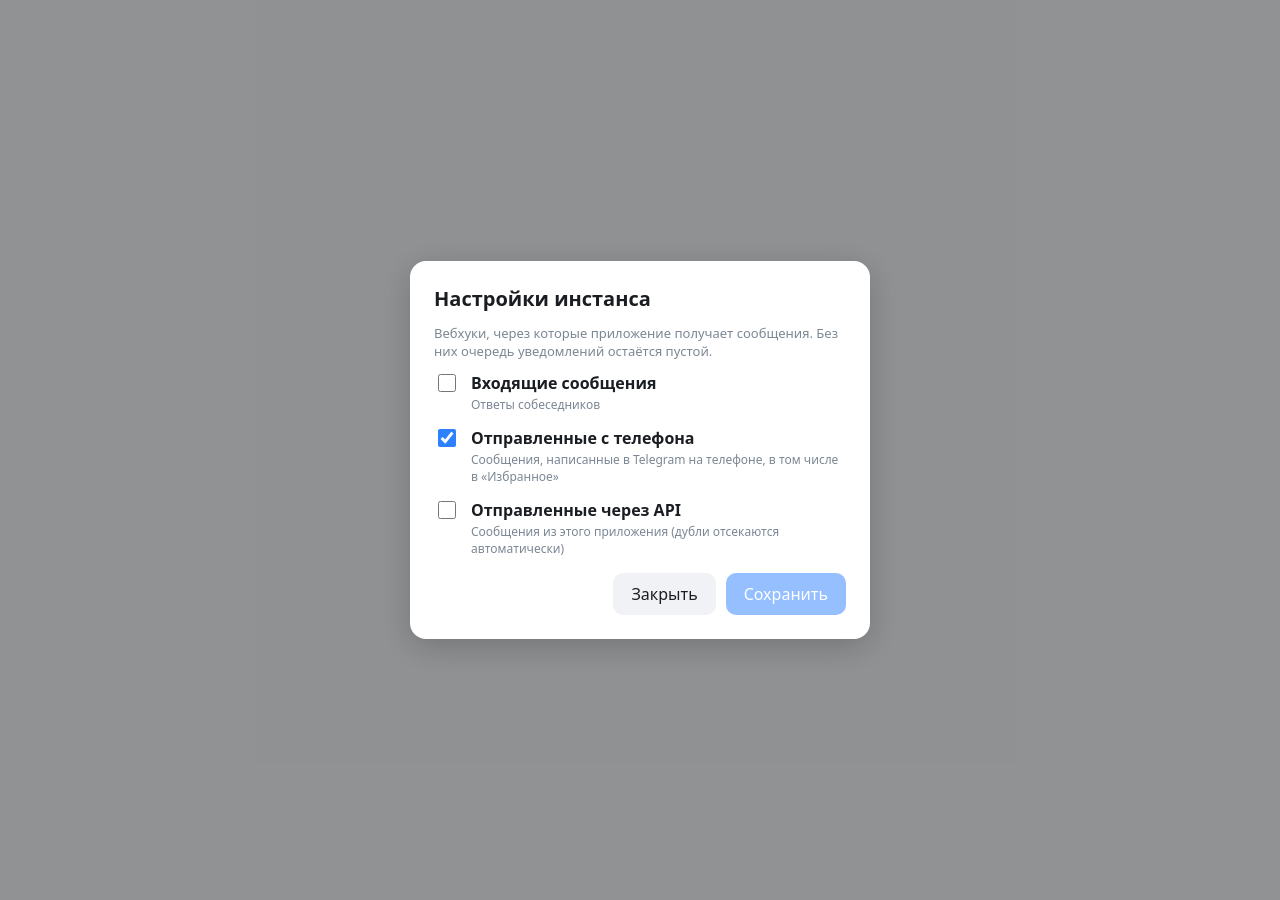
it: SettingsDialog › shows current webhook state and saves only the changed toggle
The width and height of the screenshot is (1280, 900).
Expected: the switch labelled "Отправленные с телефона" is checked, [438, 429, 456, 447]
Expected: the button "Сохранить" is disabled, [726, 573, 846, 615]
Click the switch labelled "Входящие сообщения Ответы собеседников".
click(447, 383)  # box [438, 374, 456, 392]
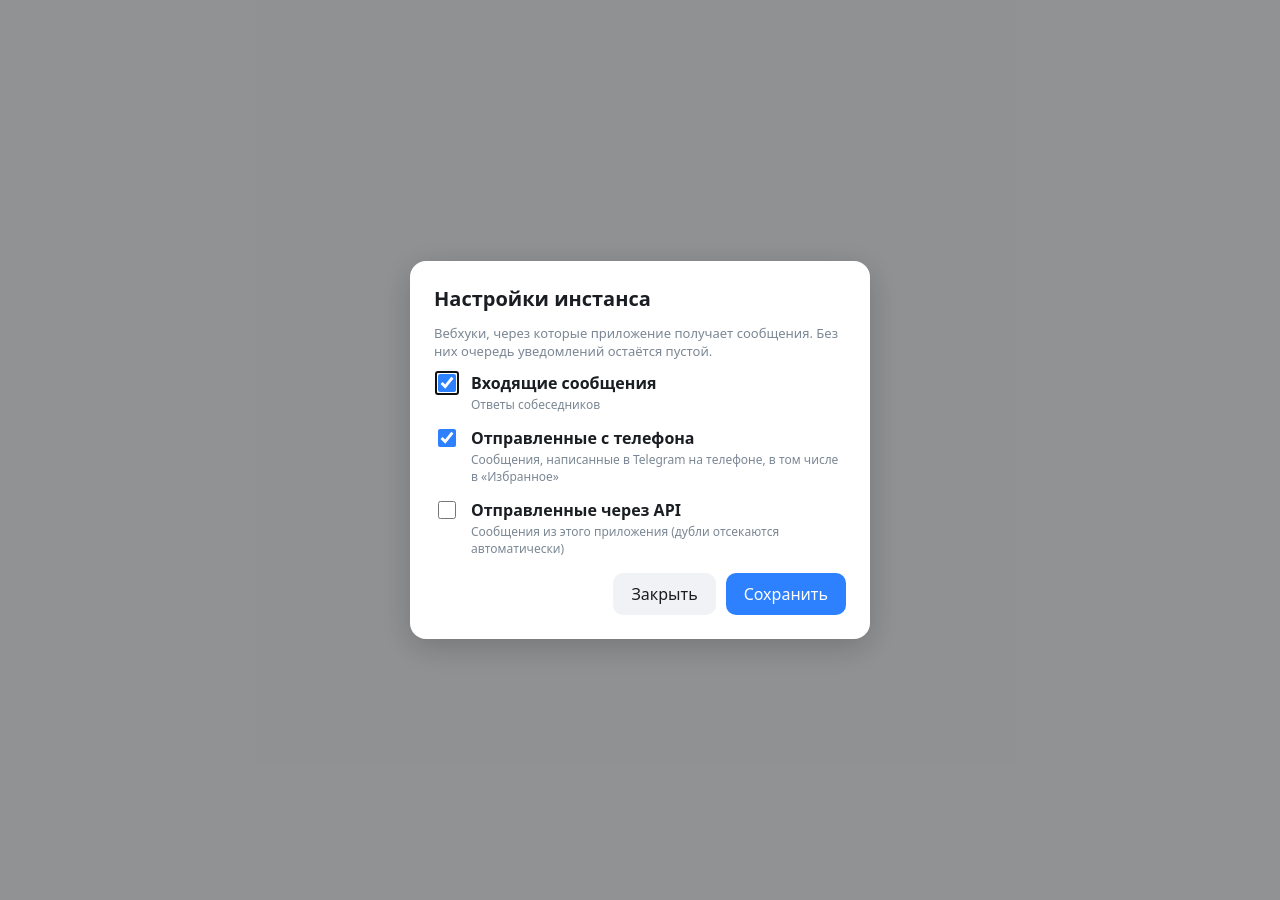
Click the button "Сохранить".
click(786, 594)  # box [726, 573, 846, 615]
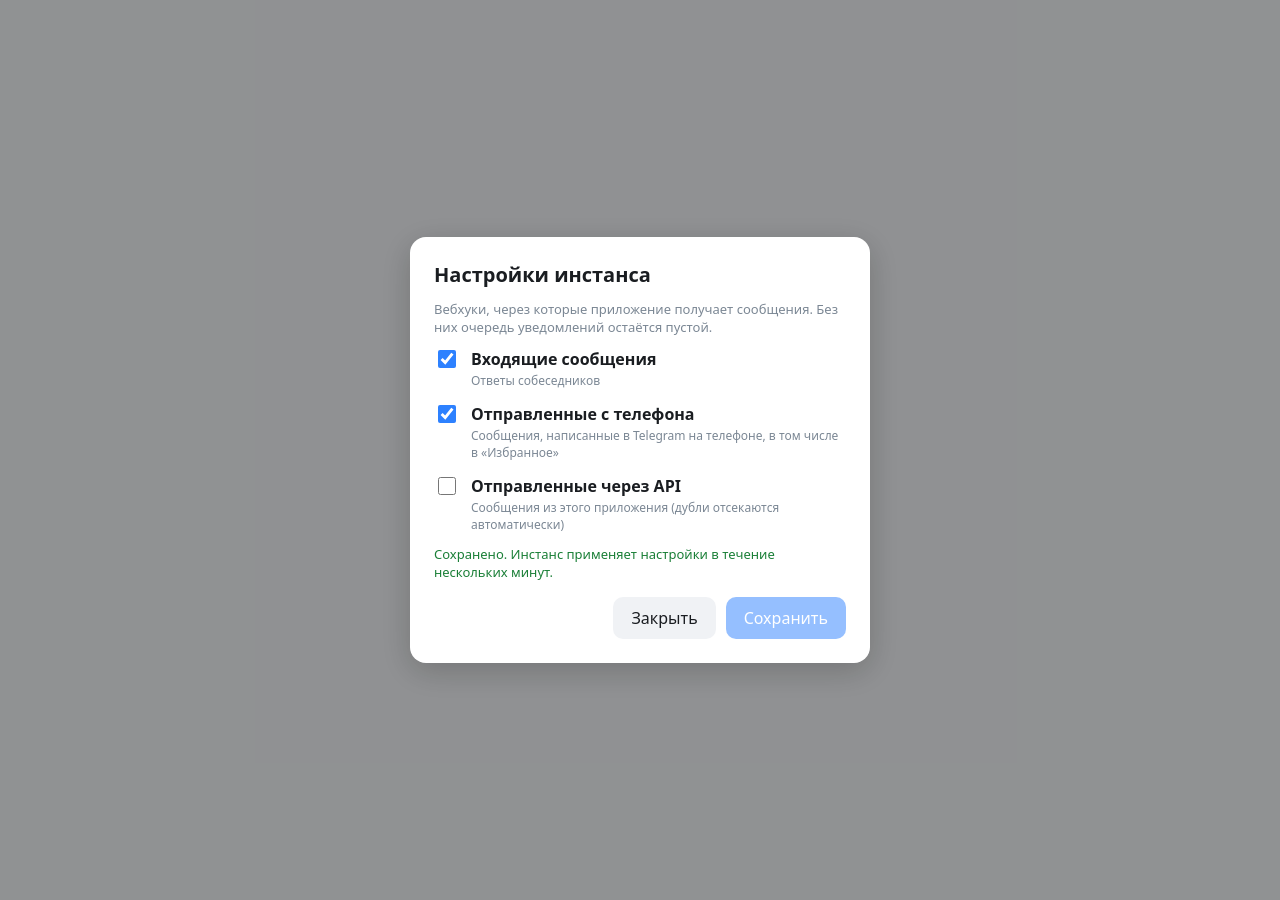
Now the message shows "Сохранено", box [434, 545, 775, 581]
Now the button "Сохранить" is disabled, box [726, 597, 846, 639]
